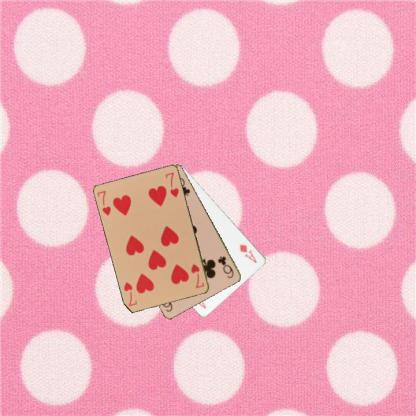6c: (215, 253, 235, 280)
7h: (188, 261, 206, 290), (95, 188, 112, 218)
Ad: (237, 242, 258, 264)
